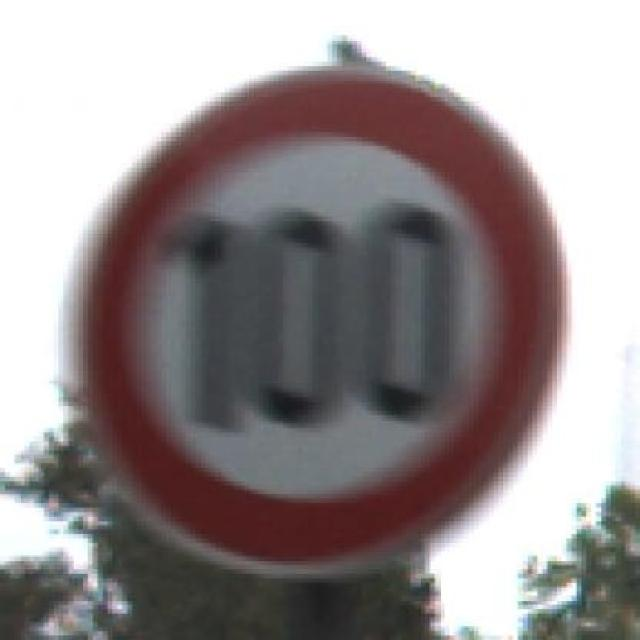forb_speed_over_100: (74, 68, 563, 569)
